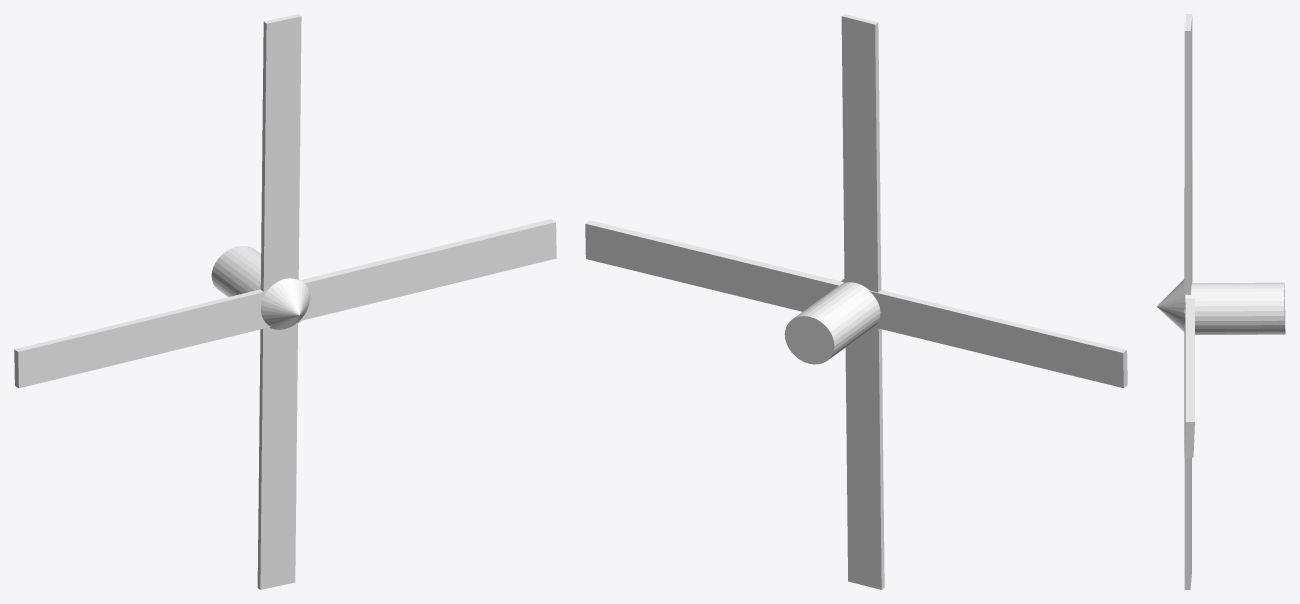
The model's file is fanBlades.obj.
The picture shows the model from 3 angles, left to right: view 1: azimuth 30°, elevation 25°; view 2: azimuth 150°, elevation 25°; view 3: azimuth 270°, elevation 25°; orthographic projection.
Parts seen in each view (by area): view 1: Plane.002; view 2: Plane.002; view 3: Plane.002.
Part boxes in pixels (<box>): Plane.002: <box>14,14,556,589</box>; Plane.002: <box>585,14,1127,589</box>; Plane.002: <box>1156,14,1285,589</box>.
Bounding box in the file's own units: 3.36 × 3.37 × 0.7014.
